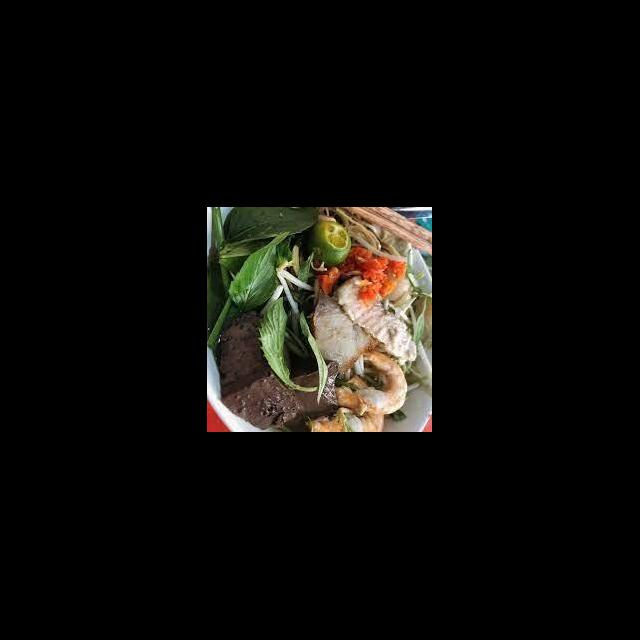thit heo quay: (334, 272, 419, 368), (308, 284, 384, 376)
tom: (328, 346, 412, 419), (304, 374, 391, 432)
